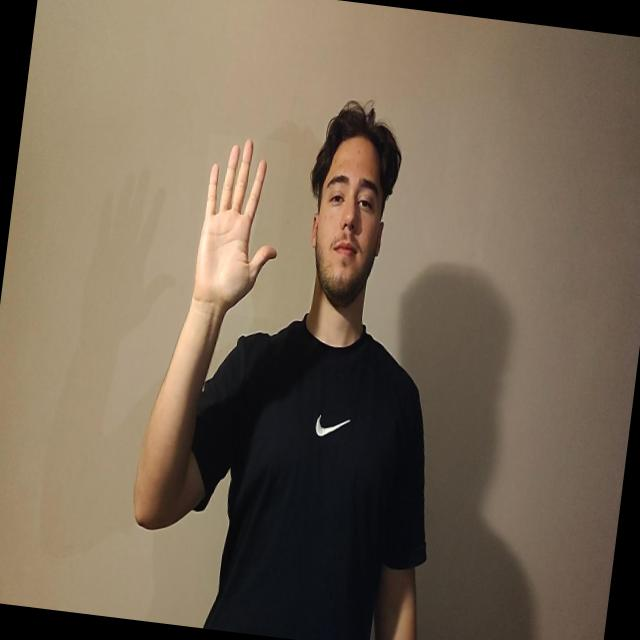hello: (188, 132, 290, 319)
